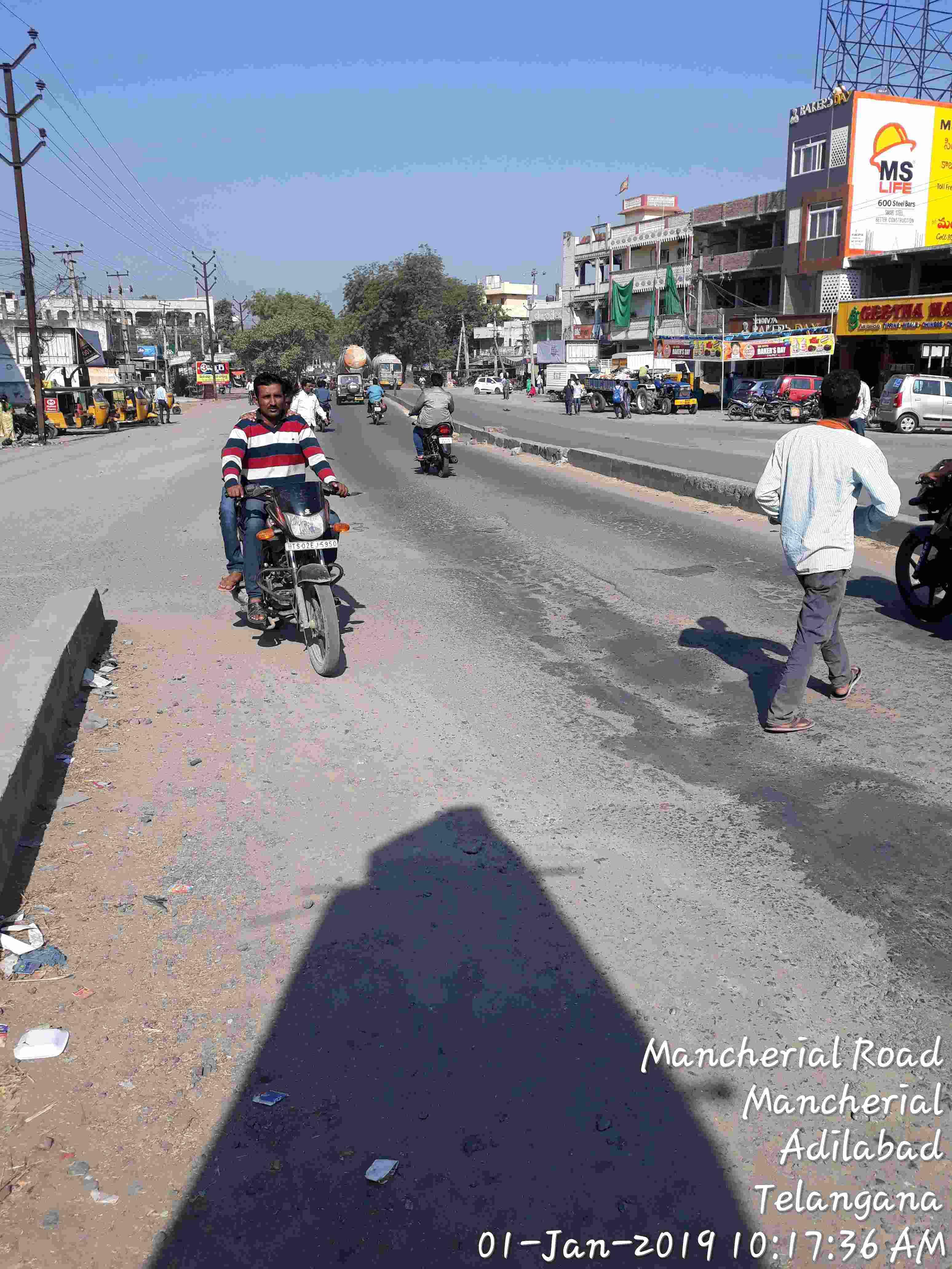plate: (282, 535, 347, 554)
